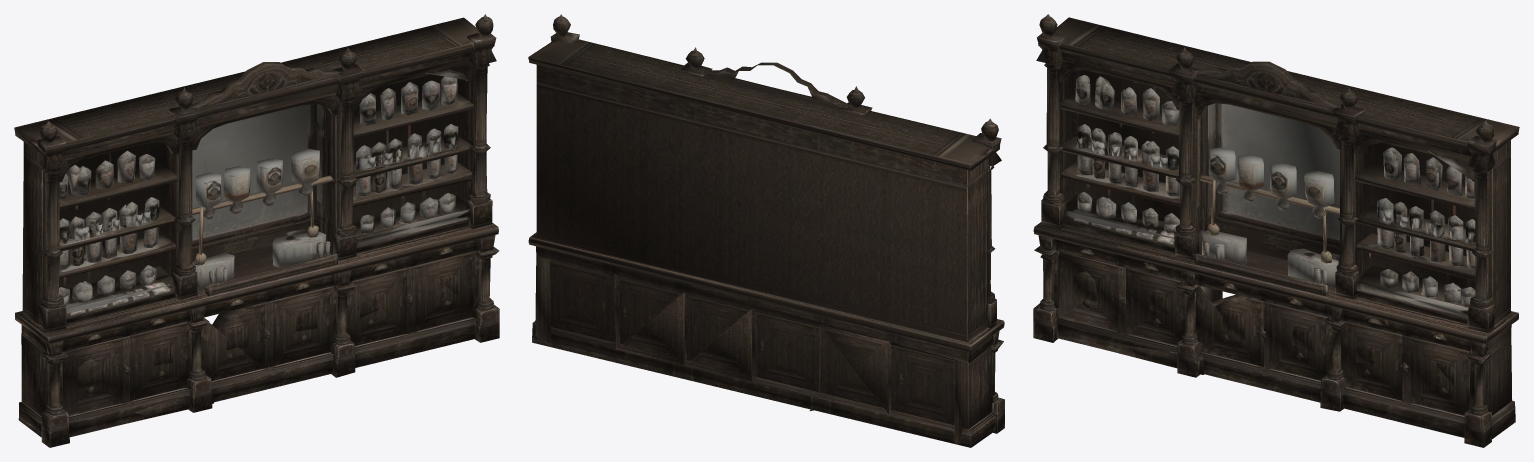
Rendered from pub_back_bar.glb.
3 renders of one model, left to right at view 1: azimuth 30°, elevation 25°; view 2: azimuth 150°, elevation 25°; view 3: azimuth 330°, elevation 25°, orthographic. The views are drawn at different scales.
Bounding box in the file's own units: 3.2 × 2.2 × 0.45.
1 material, 1 textured.
